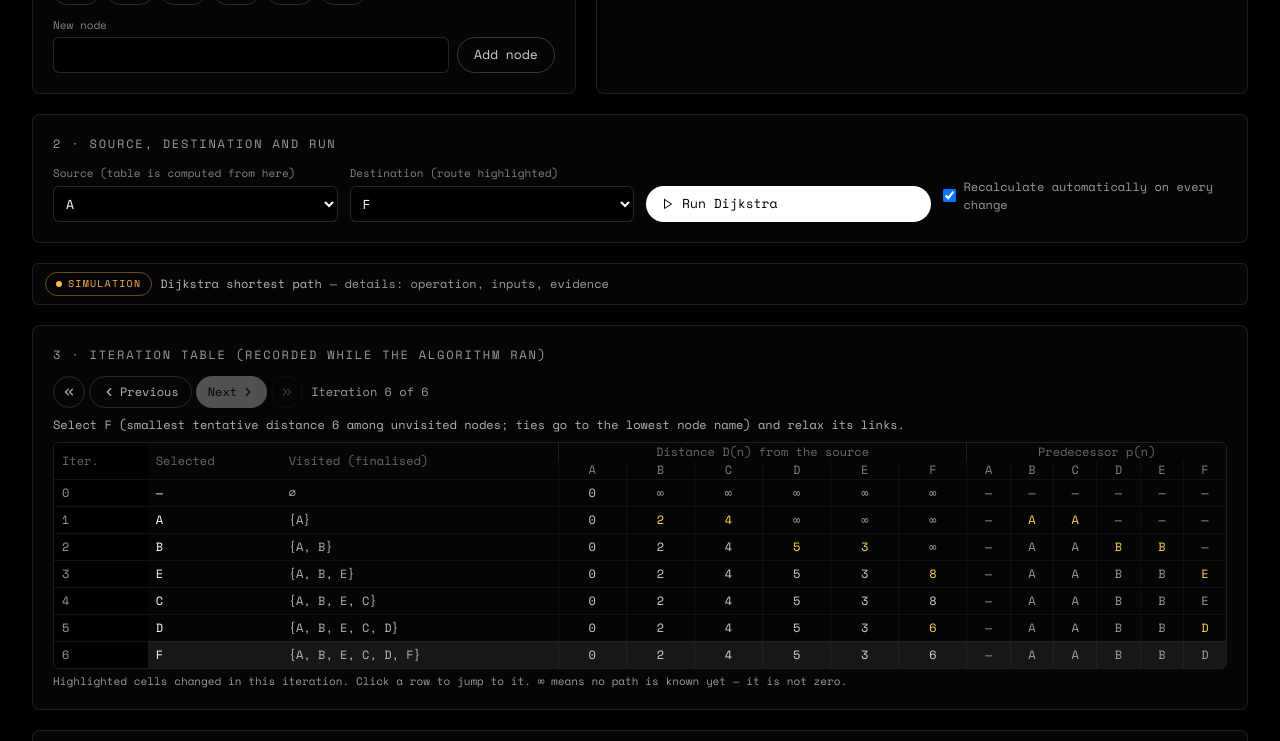
Dijkstra lab — iteration table › steps forward and backward through the recorded iterations only
(page scrolled)
Check: the table named "Dijkstra iteration table" is shown, box [54,442,1226,668]
Click the button named "First iteration".
click(69, 392)  # box [53,376,85,408]
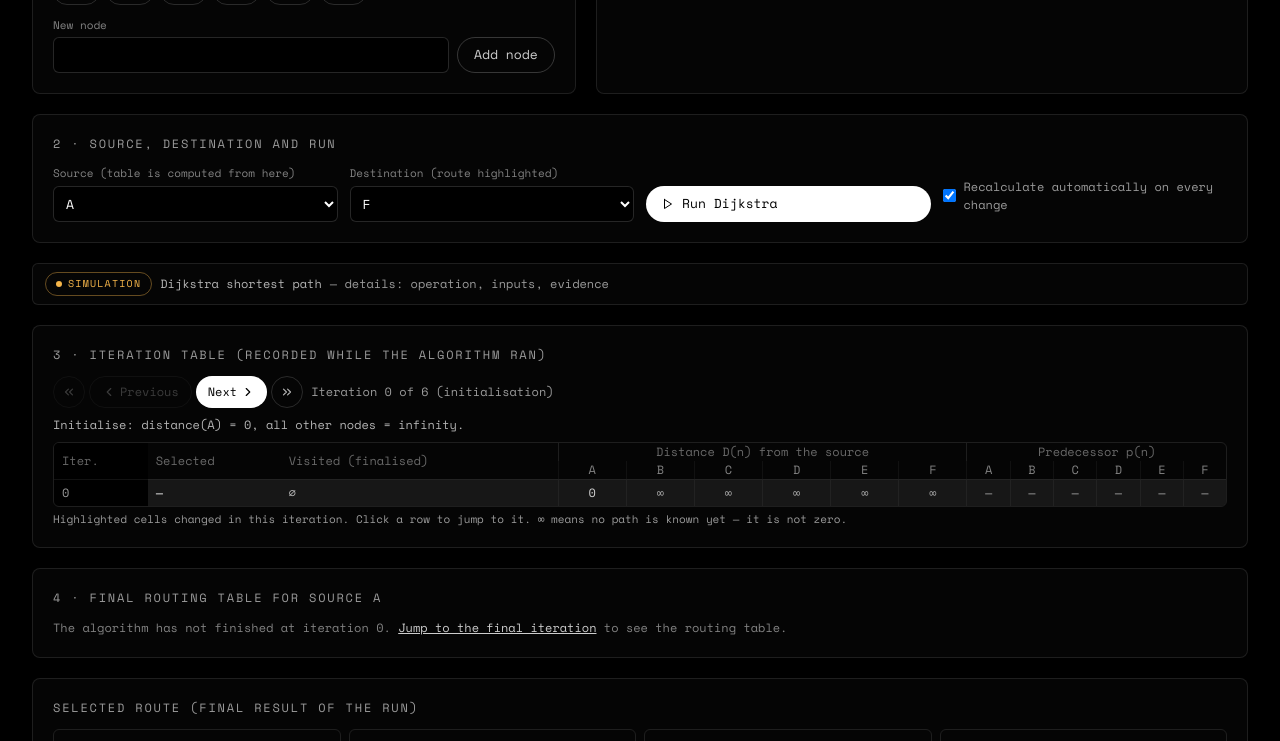
Check: the button with aria-label "Previous iteration" is disabled, box [89,376,192,408]
Click the button with aria-label "Next iteration".
click(232, 392)  # box [196,376,267,408]
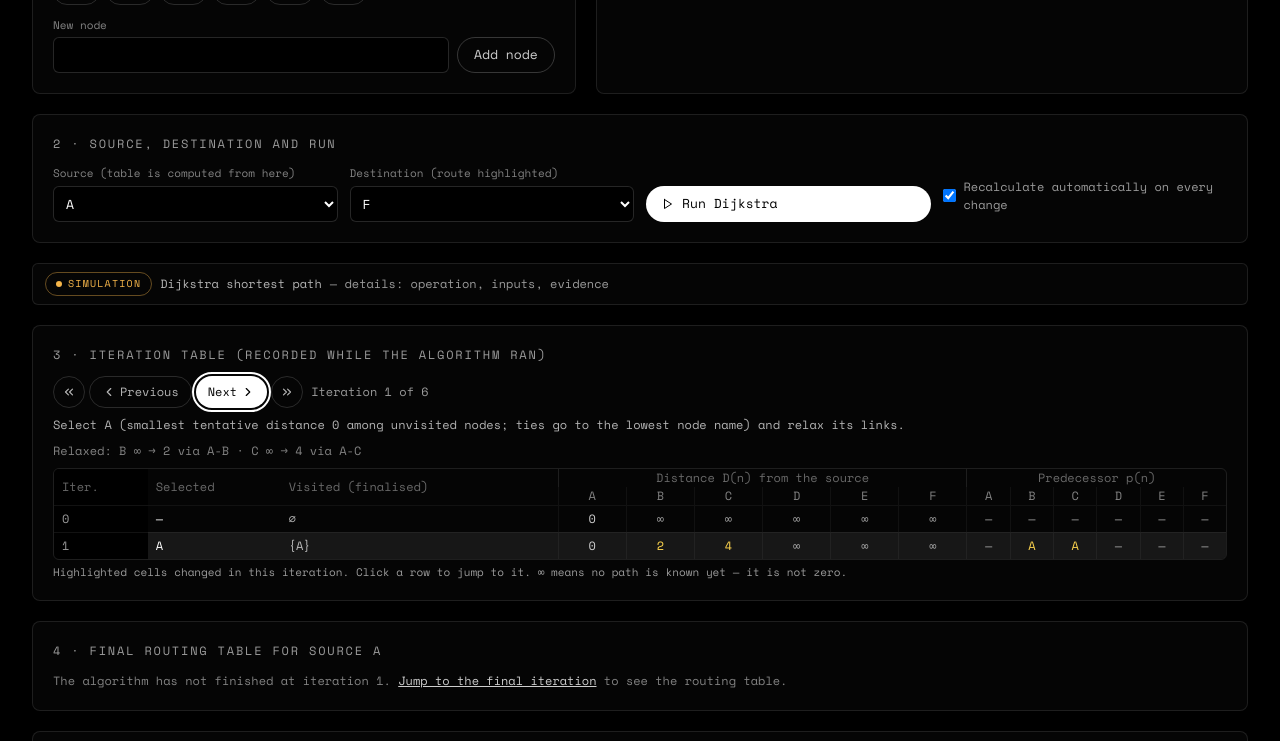
Click the button with aria-label "Next iteration".
click(232, 392)  # box [196,376,267,408]
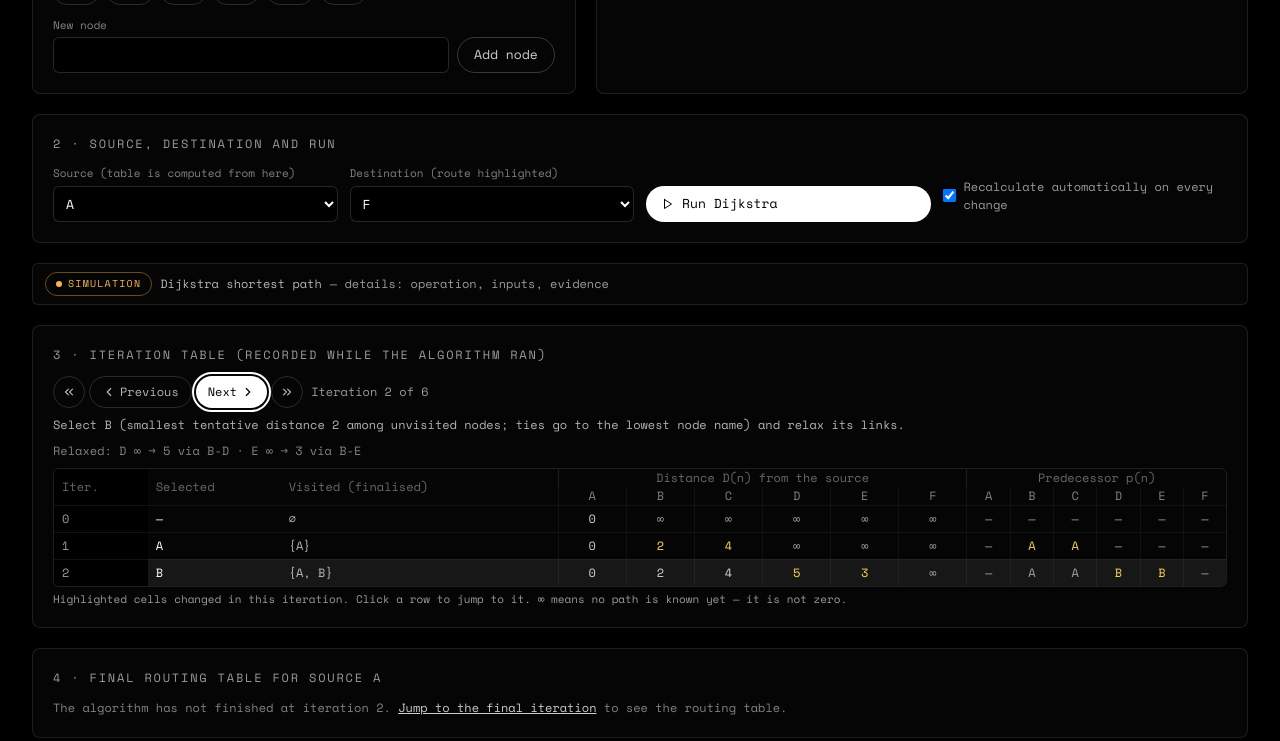
Check: the text with test id "step-label" reads "Iteration 2 of 6", box [311,382,429,400]
Check: the cell "5" is shown, box [762,559,831,586]
Check: the cell "3" is shown, box [831,559,899,586]
Click the button with aria-label "Previous iteration".
click(140, 392)  # box [89,376,192,408]
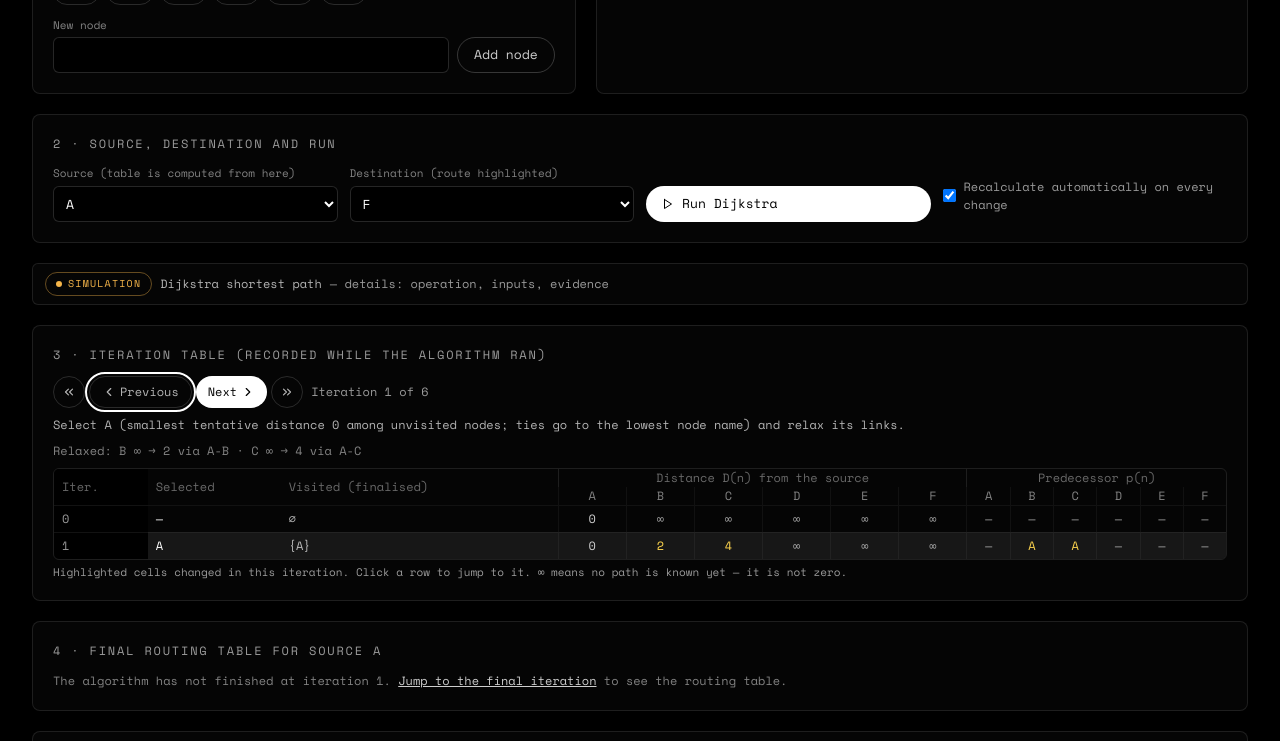
Check: the text with test id "step-label" reads "Iteration 1 of 6", box [311,382,429,400]
Check: the row with test id "iter-row-2" is gone
Click the button named "Final iteration".
click(287, 392)  # box [271,376,303,408]
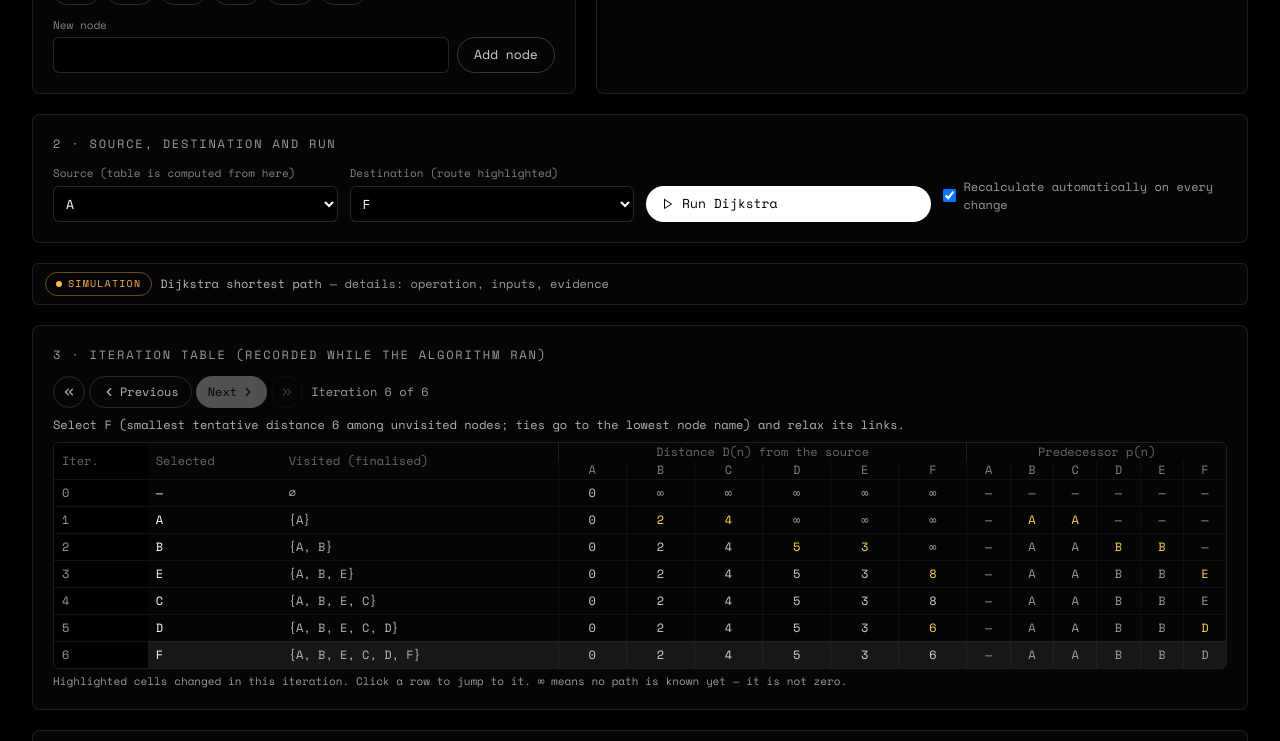
Check: the text with test id "step-label" reads "Iteration 6 of 6", box [311,382,429,400]
Check: the button with aria-label "Next iteration" is disabled, box [196,376,267,408]
